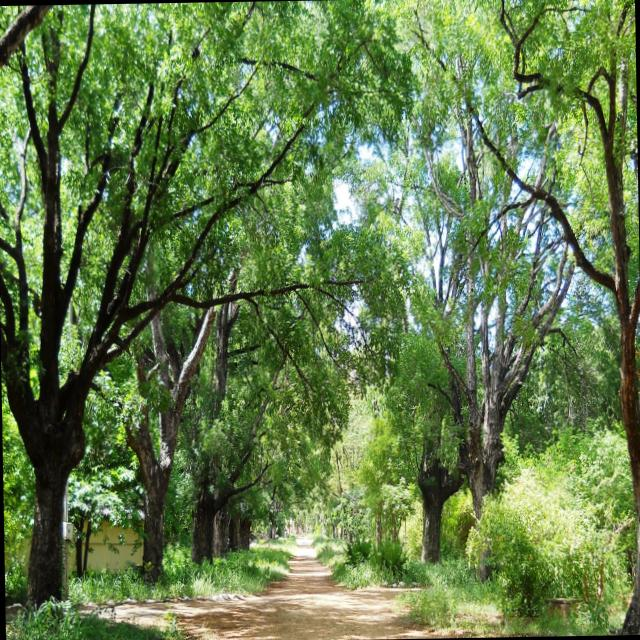Medicinal-Neem: (0, 18, 126, 582), (146, 207, 342, 517), (125, 11, 394, 180), (450, 6, 582, 326), (372, 241, 491, 458)
